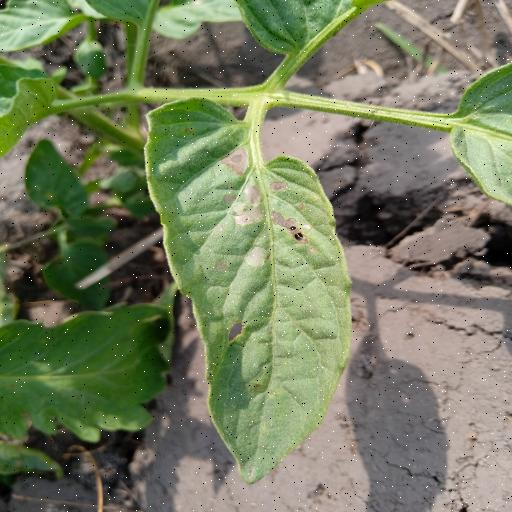Tomato_Mildiou: (145, 94, 357, 486)
